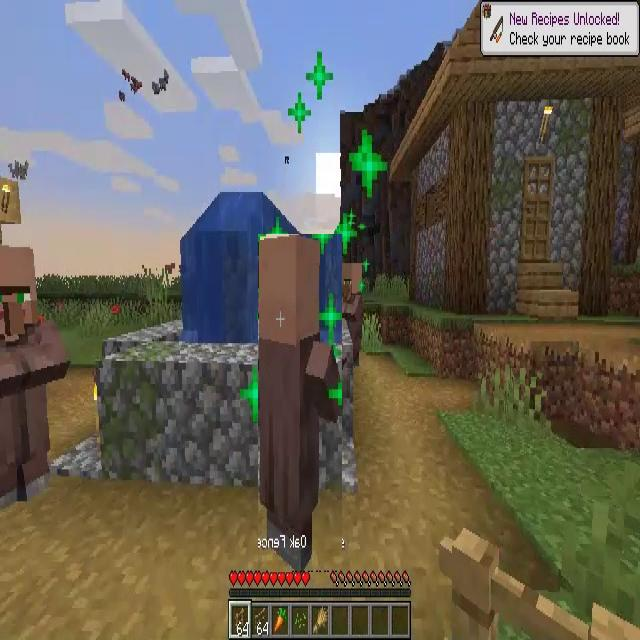people: (258, 235, 342, 572), (0, 246, 72, 509), (339, 262, 364, 366)
